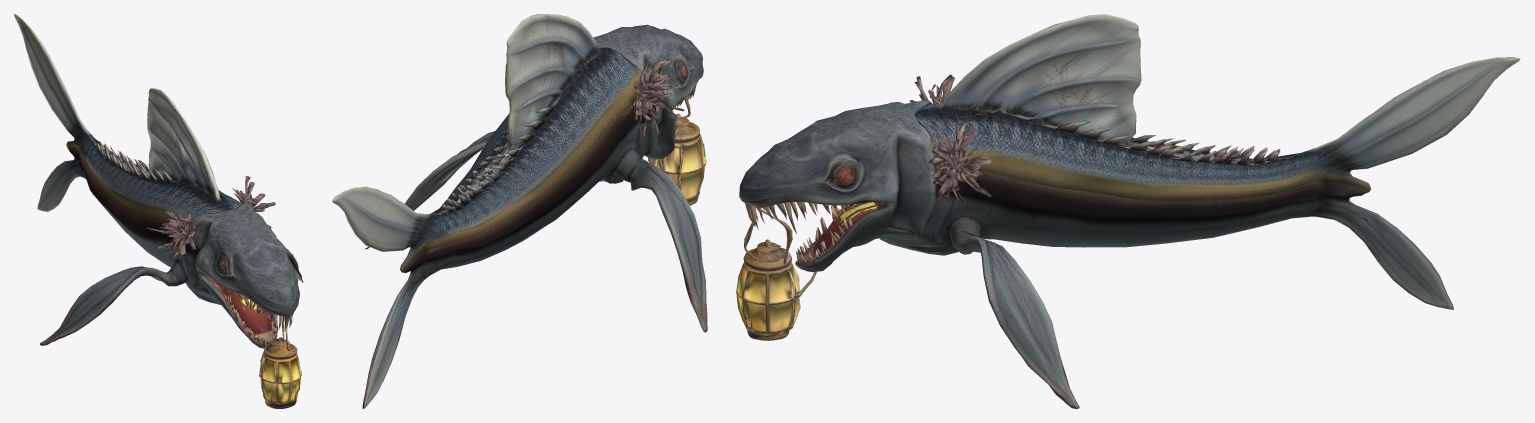
File: enm_aquatic_lurker.glb
The picture shows the model from 3 angles, left to right: view 1: azimuth 30°, elevation 25°; view 2: azimuth 150°, elevation 25°; view 3: azimuth 270°, elevation 25°; orthographic projection. The views are drawn at different scales.
Size of the model in its own units: 0.52 by 0.4268 by 0.9526.
1 material, 1 textured.
